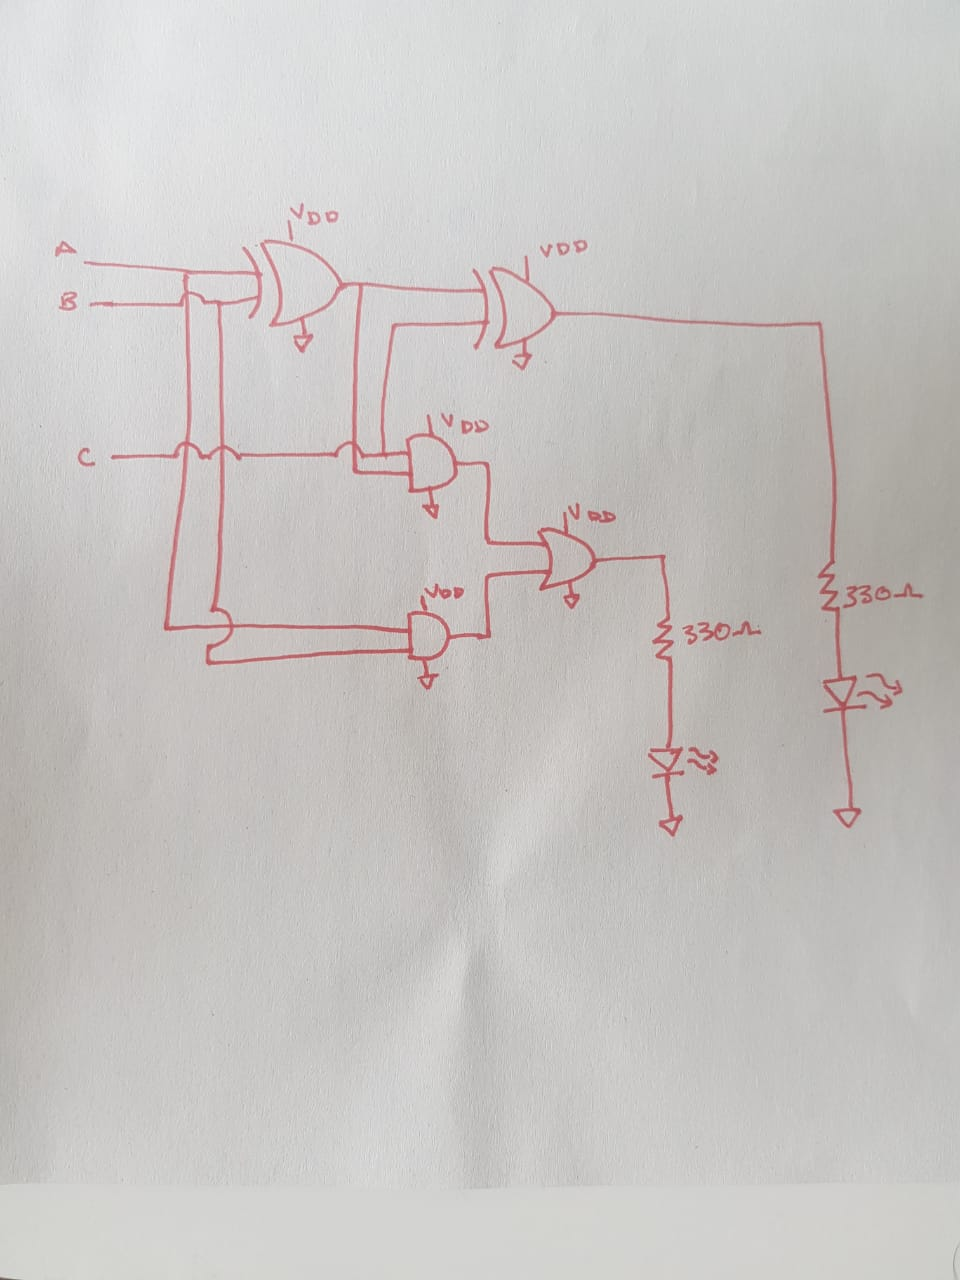and: (403, 429, 458, 493), (402, 605, 451, 664)
crossover: (201, 606, 236, 652), (204, 435, 246, 468), (167, 435, 204, 467), (176, 290, 205, 312), (332, 440, 366, 459)
diode.light_emitting: (816, 671, 910, 715), (644, 742, 726, 781)
gnd: (831, 805, 863, 833), (655, 812, 688, 839), (289, 329, 318, 358), (561, 592, 586, 616), (508, 352, 535, 373), (421, 501, 440, 520), (416, 673, 438, 690)
junction: (809, 317, 829, 335), (478, 569, 499, 586), (479, 533, 498, 547), (652, 550, 670, 564), (201, 656, 216, 671), (479, 456, 493, 470), (480, 629, 495, 642), (212, 296, 225, 309), (355, 279, 367, 293), (389, 317, 400, 333), (160, 622, 173, 634), (349, 465, 361, 477), (179, 265, 191, 277), (377, 447, 389, 458)
or: (535, 523, 601, 592)
resistor: (812, 557, 845, 614), (646, 614, 677, 661)
terminal: (99, 447, 127, 465), (81, 295, 106, 310), (75, 254, 98, 270)
text: (678, 618, 769, 647), (841, 581, 926, 609), (287, 200, 347, 227), (438, 408, 492, 434), (567, 499, 618, 524), (536, 237, 590, 259), (422, 580, 466, 602), (73, 442, 98, 469), (52, 238, 79, 258), (57, 289, 79, 313)
xor: (237, 224, 346, 330), (466, 258, 565, 353)
